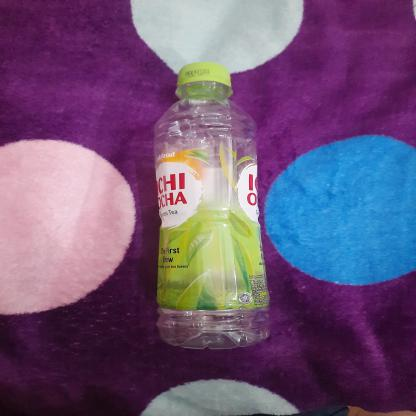bottle: (150, 58, 273, 354)
